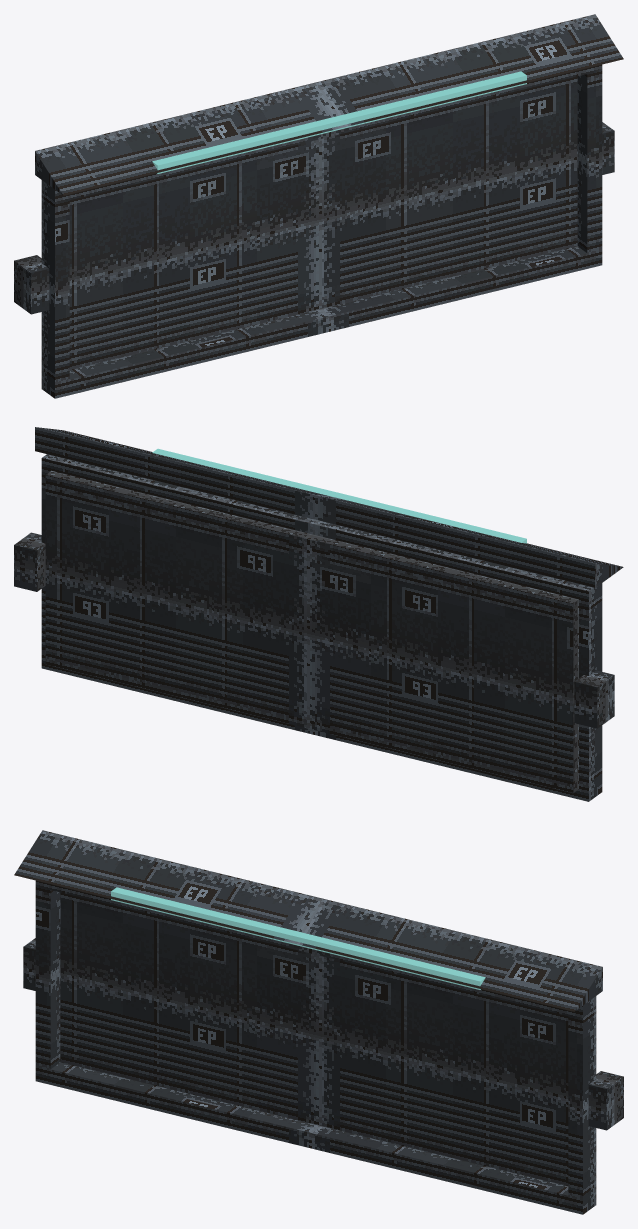
File: lab_notice_board.glb
The picture shows the model from 3 angles, top to bottom: view 1: azimuth 30°, elevation 25°; view 2: azimuth 150°, elevation 25°; view 3: azimuth 330°, elevation 25°; orthographic projection.
Parts seen in each view (by area): view 1: lab_notice_board; view 2: lab_notice_board; view 3: lab_notice_board.
Part boxes in pixels (bbox=[...]): lab_notice_board: bbox=[14, 14, 623, 398]; lab_notice_board: bbox=[14, 427, 623, 801]; lab_notice_board: bbox=[14, 830, 623, 1214].
Size of the model in its own units: 3.54 by 1.39 by 0.4.
2 materials, 1 textured.
